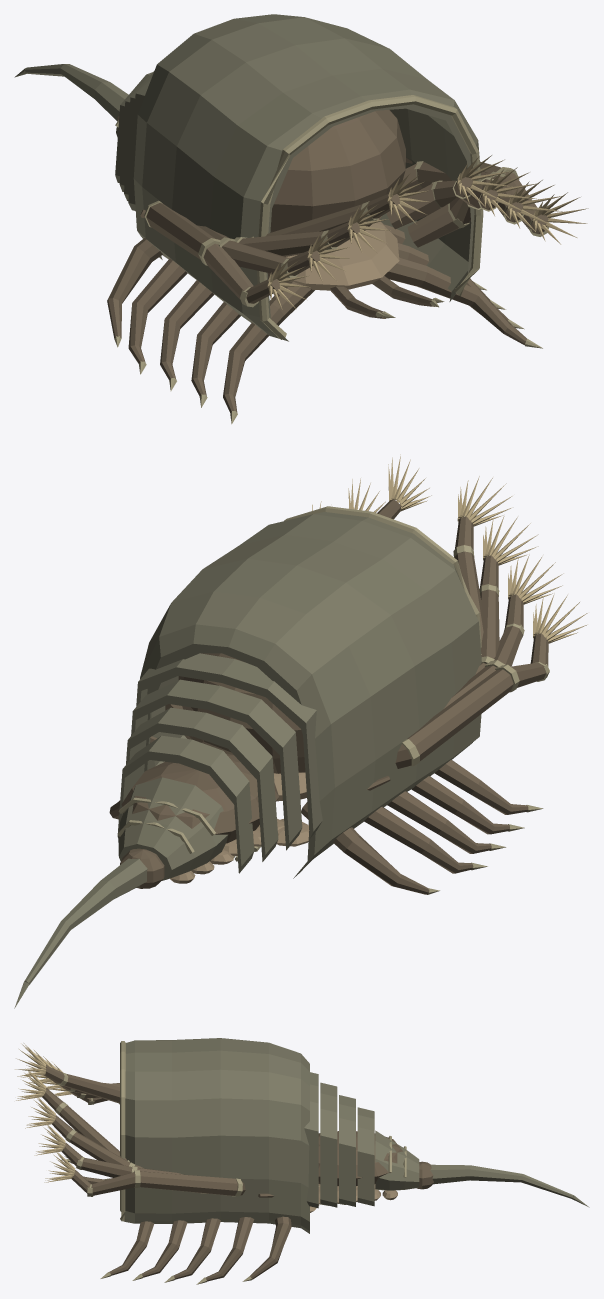
3 views of the same model, one above another, from view 1: azimuth 30°, elevation 25°; view 2: azimuth 150°, elevation 25°; view 3: azimuth 270°, elevation 25° (orthographic). The views are drawn at different scales.
Visible parts, largest first — view 1: carapace, limbs, rim, setae, ventral; view 2: carapace, limbs, setae, rim, ventral; view 3: carapace, limbs, setae, rim, ventral.
Part boxes in pixels (x1,y1,x2,y2): carapace: [14, 14, 480, 341]; limbs: [107, 110, 548, 412]; rim: [114, 95, 549, 424]; setae: [267, 155, 588, 310]; ventral: [285, 219, 399, 290]; carapace: [14, 512, 481, 1008]; limbs: [109, 499, 548, 894]; setae: [312, 454, 587, 643]; rim: [117, 506, 549, 894]; ventral: [170, 772, 309, 883]; carapace: [124, 1038, 589, 1233]; limbs: [40, 1065, 433, 1281]; setae: [15, 1043, 75, 1182]; rim: [55, 1041, 406, 1284]; ventral: [310, 1184, 397, 1212].
Size of the model in its own units: 0.00319 by 0.00242 by 0.007.
